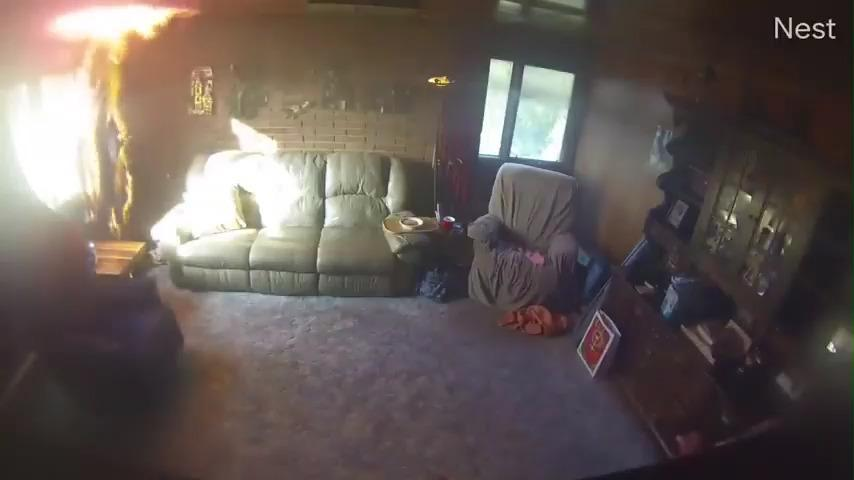fire: (101, 51, 143, 239), (41, 0, 194, 47)
